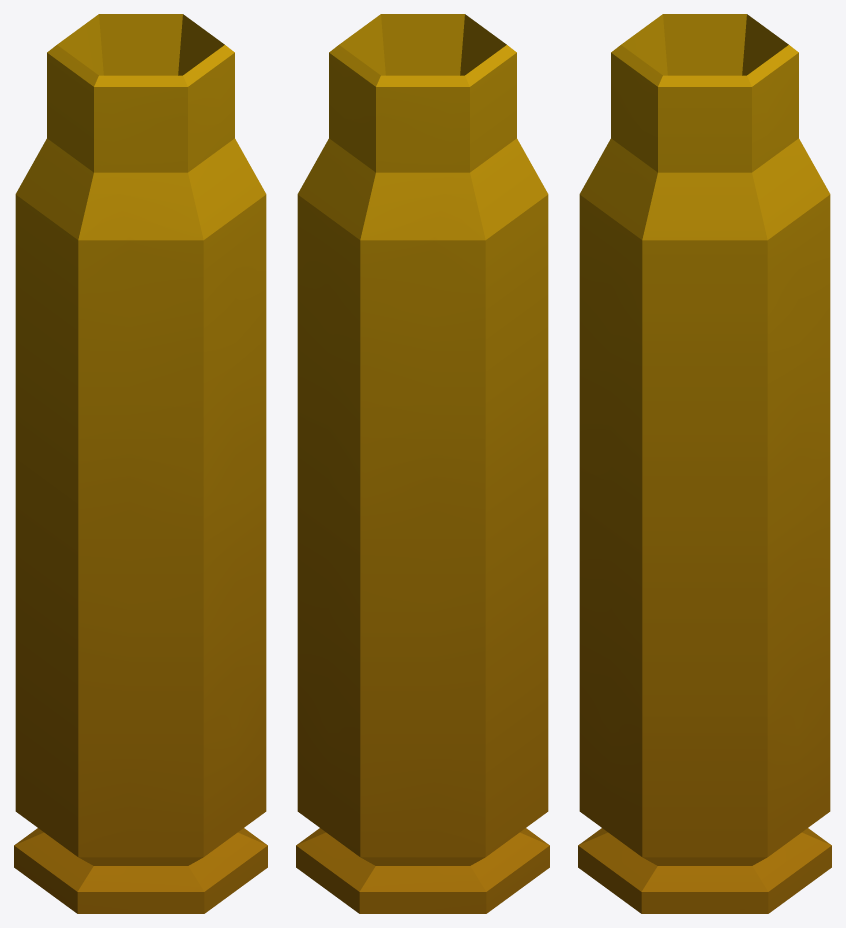
The model's file is Bullet_556_V1_Shell.glb.
The picture shows the model from 3 angles, left to right: view 1: azimuth 30°, elevation 25°; view 2: azimuth 150°, elevation 25°; view 3: azimuth 270°, elevation 25°; orthographic projection.
Visible parts, largest first — view 1: Bullet_556_V1_Shell; view 2: Bullet_556_V1_Shell; view 3: Bullet_556_V1_Shell.
Part boxes in pixels (bbox=[...]): Bullet_556_V1_Shell: bbox=[14, 14, 267, 913]; Bullet_556_V1_Shell: bbox=[296, 14, 549, 913]; Bullet_556_V1_Shell: bbox=[578, 14, 831, 913].
Size of the model in its own units: 0.0107 by 0.044 by 0.0123.
1 material, 1 textured.
